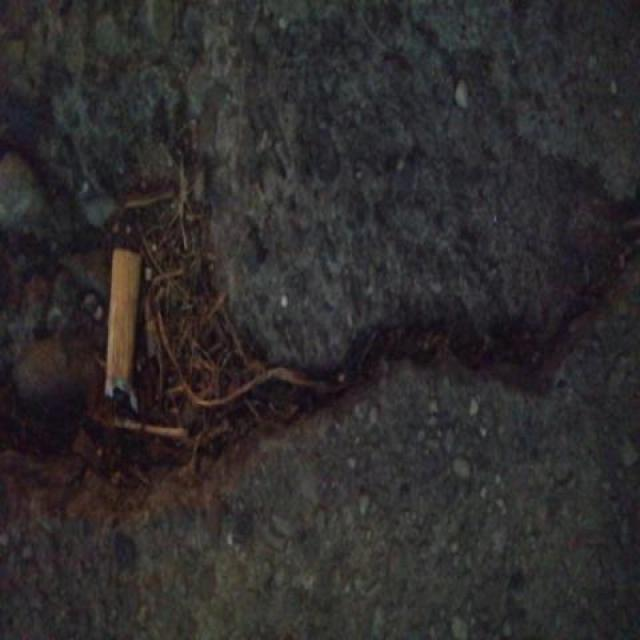non-organic waste: (101, 244, 144, 419)
